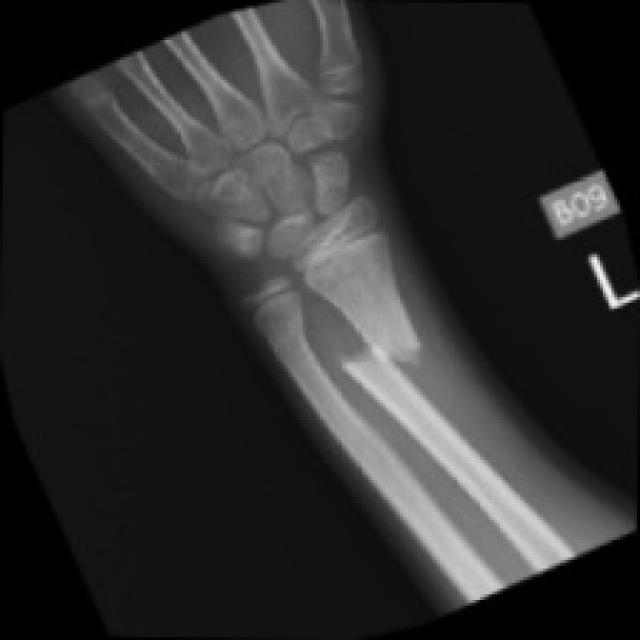fracture: (321, 308, 446, 407)
